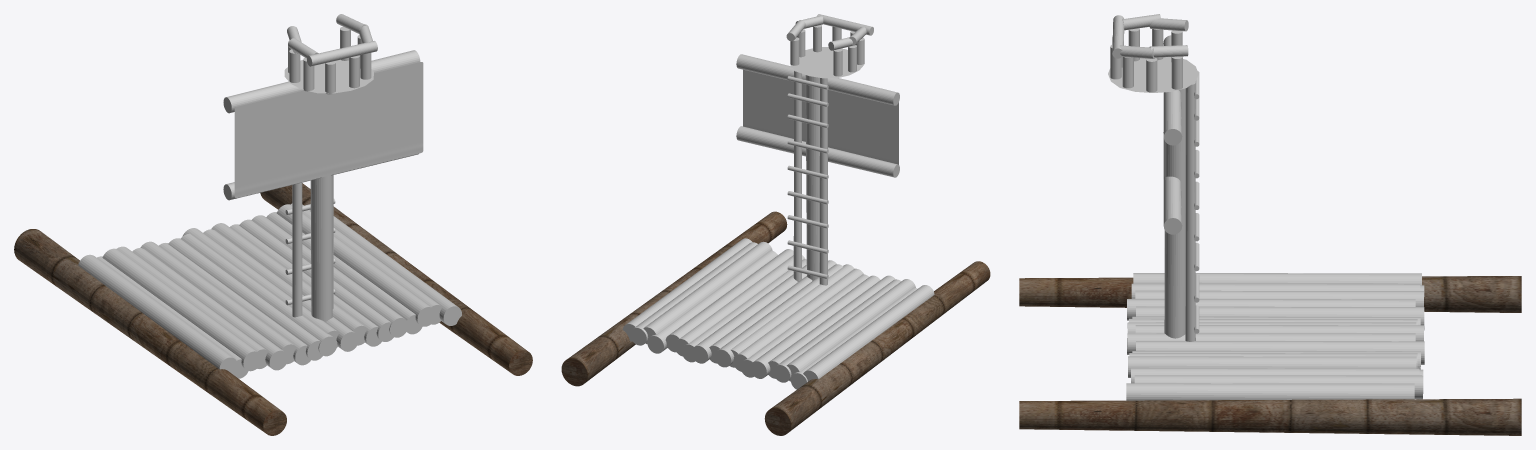
Rendered from sheep.fbx.
3 renders of one model, left to right at view 1: azimuth 30°, elevation 25°; view 2: azimuth 150°, elevation 25°; view 3: azimuth 270°, elevation 25°, orthographic. The views are drawn at different scales.
Parts seen in each view (by area): view 1: Plane.001, Cylinder.010, Cylinder.009, Cylinder.008, Cylinder.012, Cylinder.006, Cylinder.029, Cylinder.001, Cylinder.003, Cylinder.002, Cylinder.063, Cylinder.004 (+15 smaller); view 2: Plane.001, Cylinder.010, Cylinder.063, Cylinder.009, Cylinder.012, Cylinder.008, Cylinder.006, Cylinder.029, Cylinder.037, Cylinder.035, Cylinder.003, Cylinder.001 (+16 smaller); view 3: Cylinder.009, Cylinder.010, Cylinder.027, Cylinder.063, Cylinder.015, Cylinder.012, Cylinder.016, Cylinder.008, Cylinder.028, Cylinder.003, Cylinder.018, Cylinder.029 (+12 smaller).
Boxes of the visible parts, x1,y1,x2,y2 form: Plane.001: (234, 62, 423, 197); Cylinder.010: (14, 229, 286, 435); Cylinder.009: (260, 183, 532, 375); Cylinder.008: (78, 254, 237, 374); Cylinder.012: (310, 175, 332, 322); Cylinder.006: (102, 248, 261, 371); Cylinder.029: (276, 204, 435, 326); Cylinder.001: (168, 238, 322, 360); Cylinder.003: (140, 241, 296, 364); Cylinder.002: (180, 233, 337, 356); Cylinder.063: (285, 175, 335, 317); Cylinder.004: (132, 248, 287, 370); Plane.001: (743, 69, 898, 164); Cylinder.010: (764, 261, 990, 435); Cylinder.063: (787, 69, 828, 285); Cylinder.009: (561, 211, 787, 386); Cylinder.012: (805, 75, 819, 280); Cylinder.008: (803, 285, 934, 381); Cylinder.006: (786, 279, 915, 381); Cylinder.029: (643, 241, 772, 344); Cylinder.037: (736, 126, 899, 177); Cylinder.035: (736, 54, 899, 105); Cylinder.003: (750, 275, 880, 378); Cylinder.001: (733, 268, 863, 371); Cylinder.009: (1019, 398, 1521, 435); Cylinder.010: (1019, 276, 1521, 312); Cylinder.027: (1126, 383, 1414, 400); Cylinder.063: (1185, 71, 1199, 341); Cylinder.015: (1128, 356, 1416, 377); Cylinder.012: (1164, 88, 1185, 338); Cylinder.016: (1136, 341, 1424, 364); Cylinder.008: (1133, 273, 1421, 285); Cylinder.028: (1134, 375, 1423, 399); Cylinder.003: (1136, 306, 1424, 330); Cylinder.018: (1135, 325, 1423, 341); Cylinder.029: (1131, 368, 1419, 383).
Bounding box in the file's own units: 829 × 950 × 1271.
